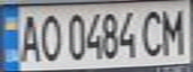0: (63, 10, 84, 62)
4: (118, 7, 142, 60), (84, 9, 103, 61)
8: (100, 8, 121, 60)
A: (15, 10, 42, 63)
C: (139, 7, 166, 57)
M: (157, 4, 190, 56)
O: (36, 10, 63, 63)
